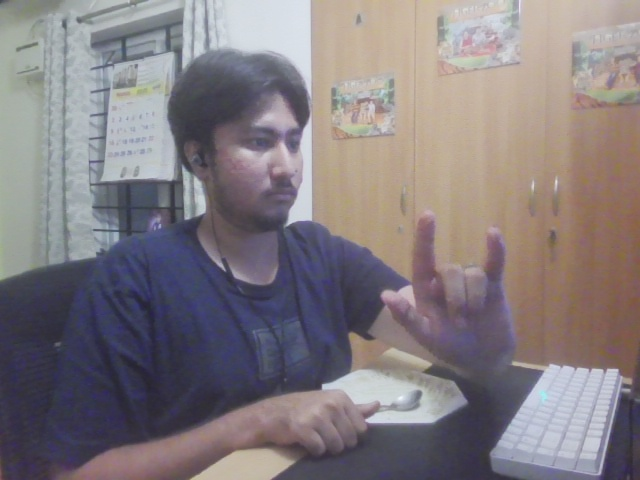iloveyou: (376, 208, 521, 376)
